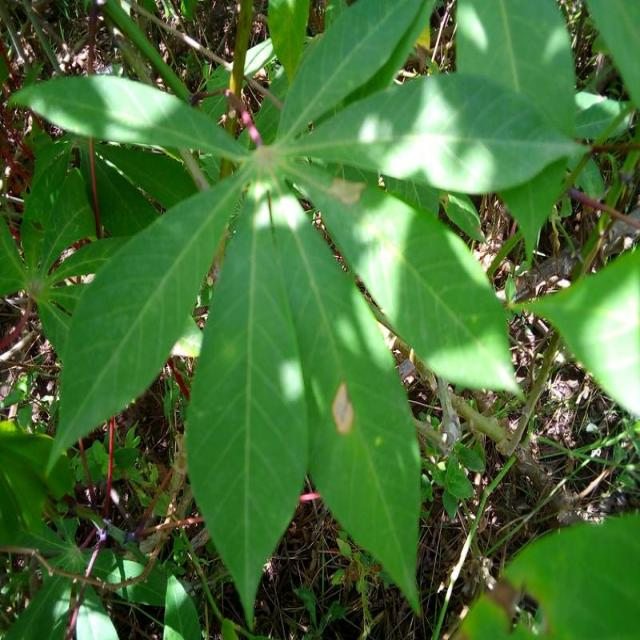cassava leaf: (16, 1, 594, 628)
